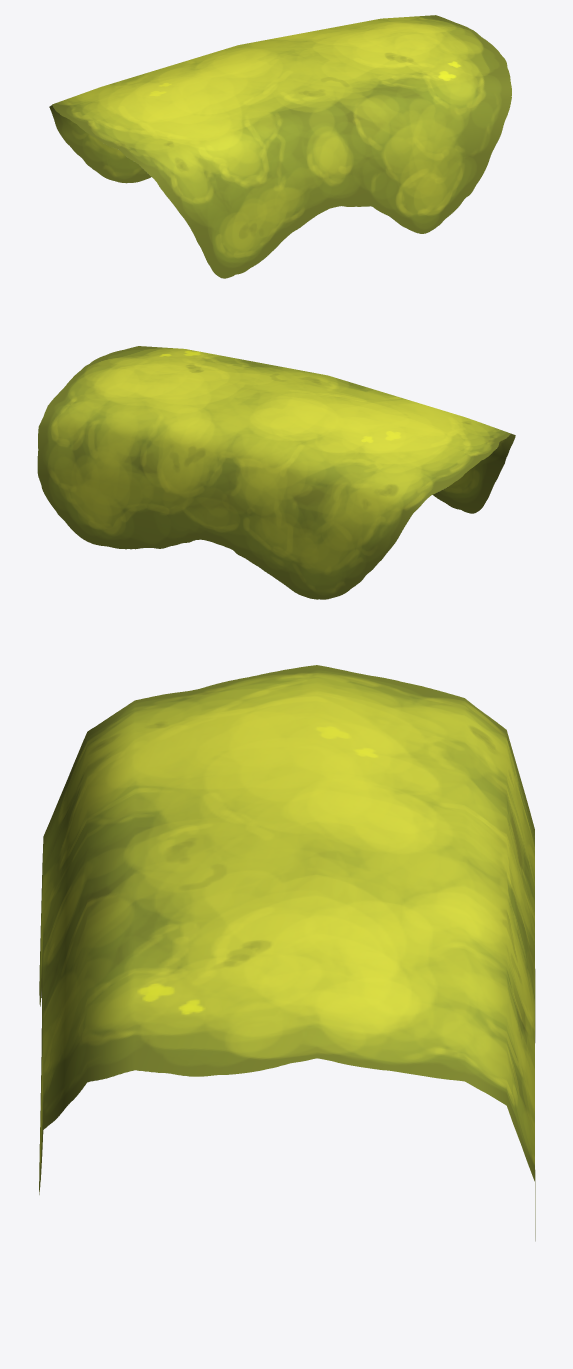
File: Moss2.fbx
3 renders of one model, top to bottom at view 1: azimuth 30°, elevation 25°; view 2: azimuth 150°, elevation 25°; view 3: azimuth 270°, elevation 25°, orthographic. The views are drawn at different scales.
Visible parts, largest first — view 1: pPlane1; view 2: pPlane1; view 3: pPlane1.
Boxes of the visible parts, x1,y1,x2,y2 form: pPlane1: [49, 15, 511, 278]; pPlane1: [37, 346, 515, 599]; pPlane1: [39, 665, 535, 1241].
Bounding box in the file's own units: 4.56 × 1.78 × 2.33.
